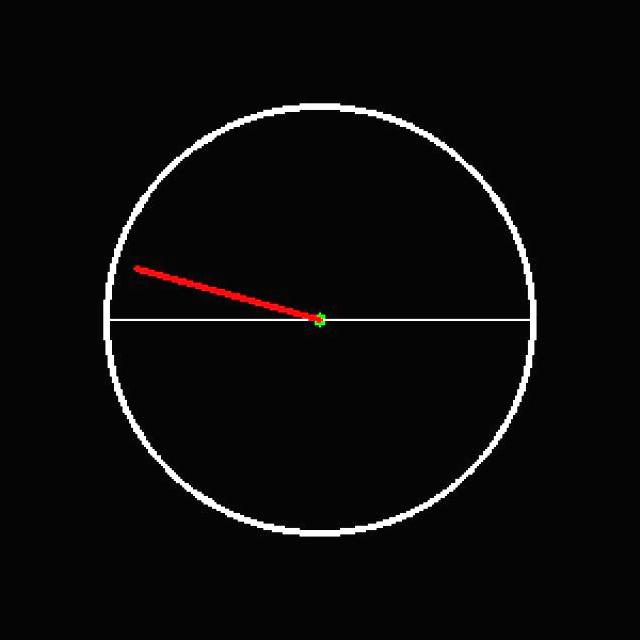Needle_Tip: (119, 236, 175, 305)
Needle_base: (247, 295, 393, 343)
